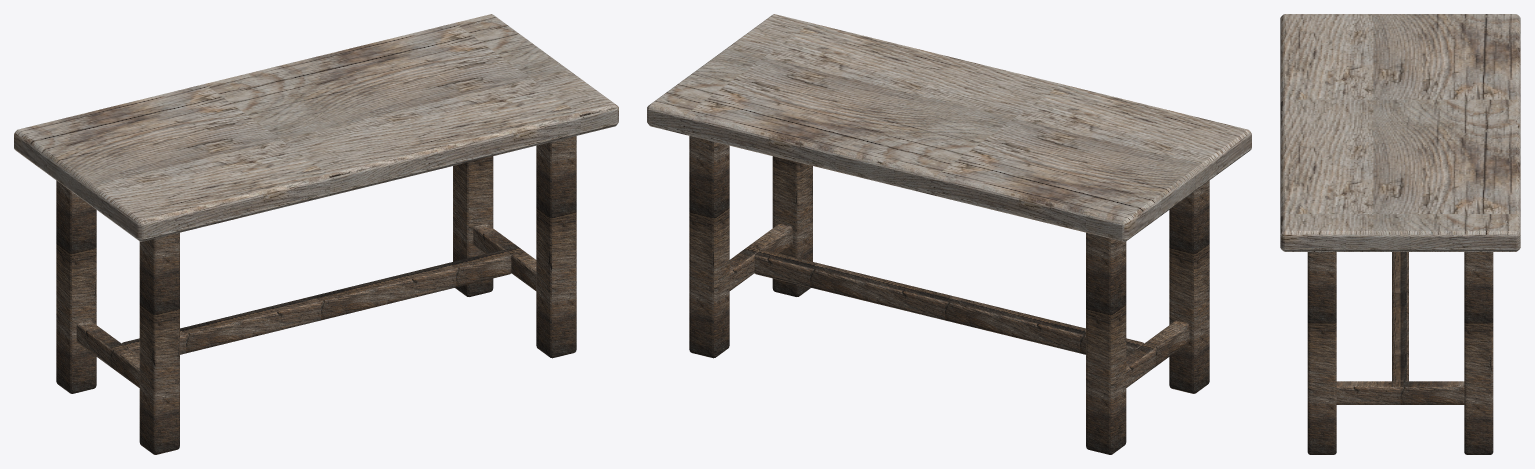
The model's file is table-v02.glb.
3 views of the same model, side by side, from view 1: azimuth 30°, elevation 25°; view 2: azimuth 150°, elevation 25°; view 3: azimuth 270°, elevation 25° (orthographic). The views are drawn at different scales.
Visible parts, largest first — view 1: table; view 2: table; view 3: table.
Boxes of the visible parts, x1,y1,x2,y2 form: table: (14,14,618,454); table: (647,14,1251,454); table: (1280,14,1520,454).
Bounding box in the file's own units: 2.5 × 1.25 × 1.15.
2 materials, 2 textured.
